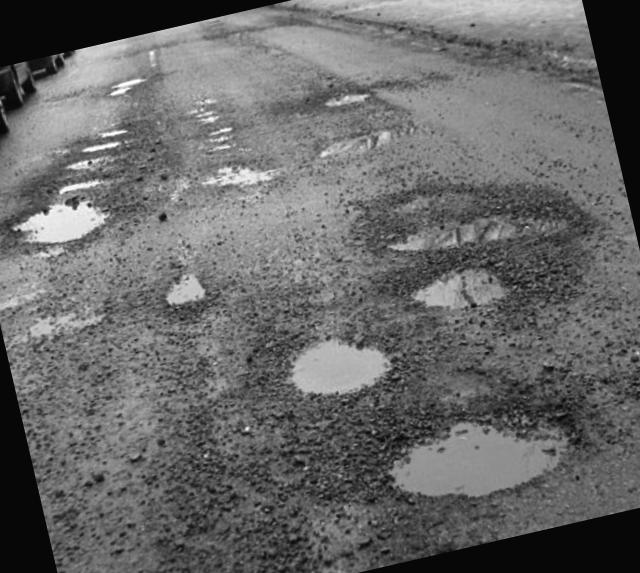Pothole: (360, 368, 590, 524), (372, 162, 598, 278), (260, 316, 406, 419), (391, 251, 517, 329), (0, 185, 117, 269), (173, 145, 290, 214), (46, 117, 142, 196), (137, 264, 215, 325), (303, 118, 398, 168), (98, 66, 154, 114), (306, 80, 373, 120)
